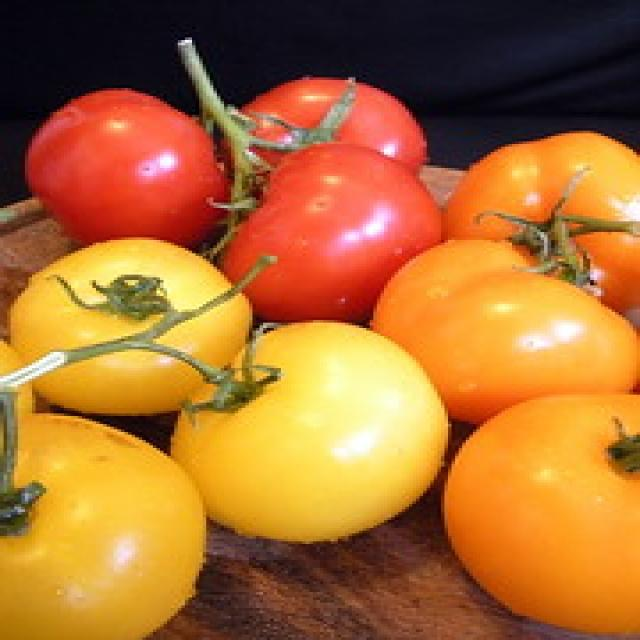kirmizi: (16, 56, 450, 254)
